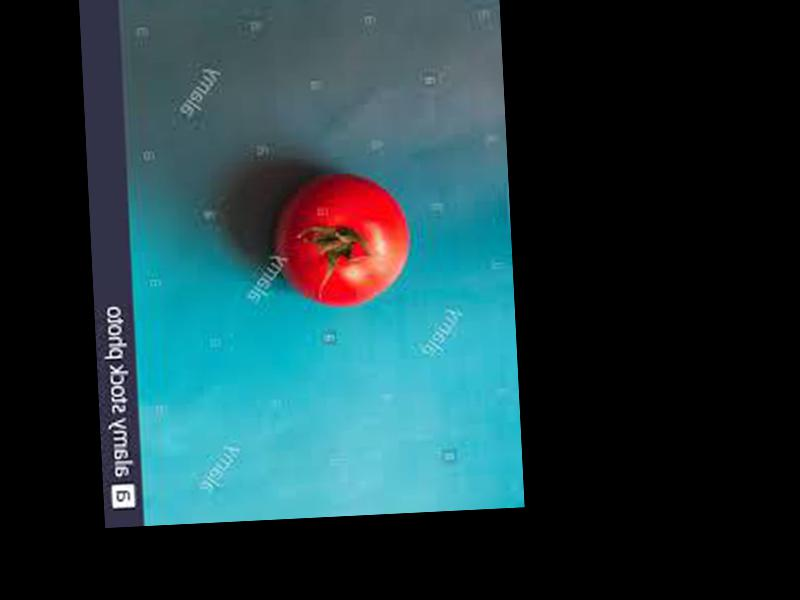Tomato: (271, 172, 413, 309)
